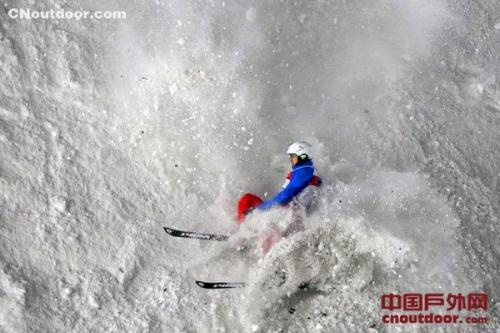falling: (211, 127, 340, 279)
